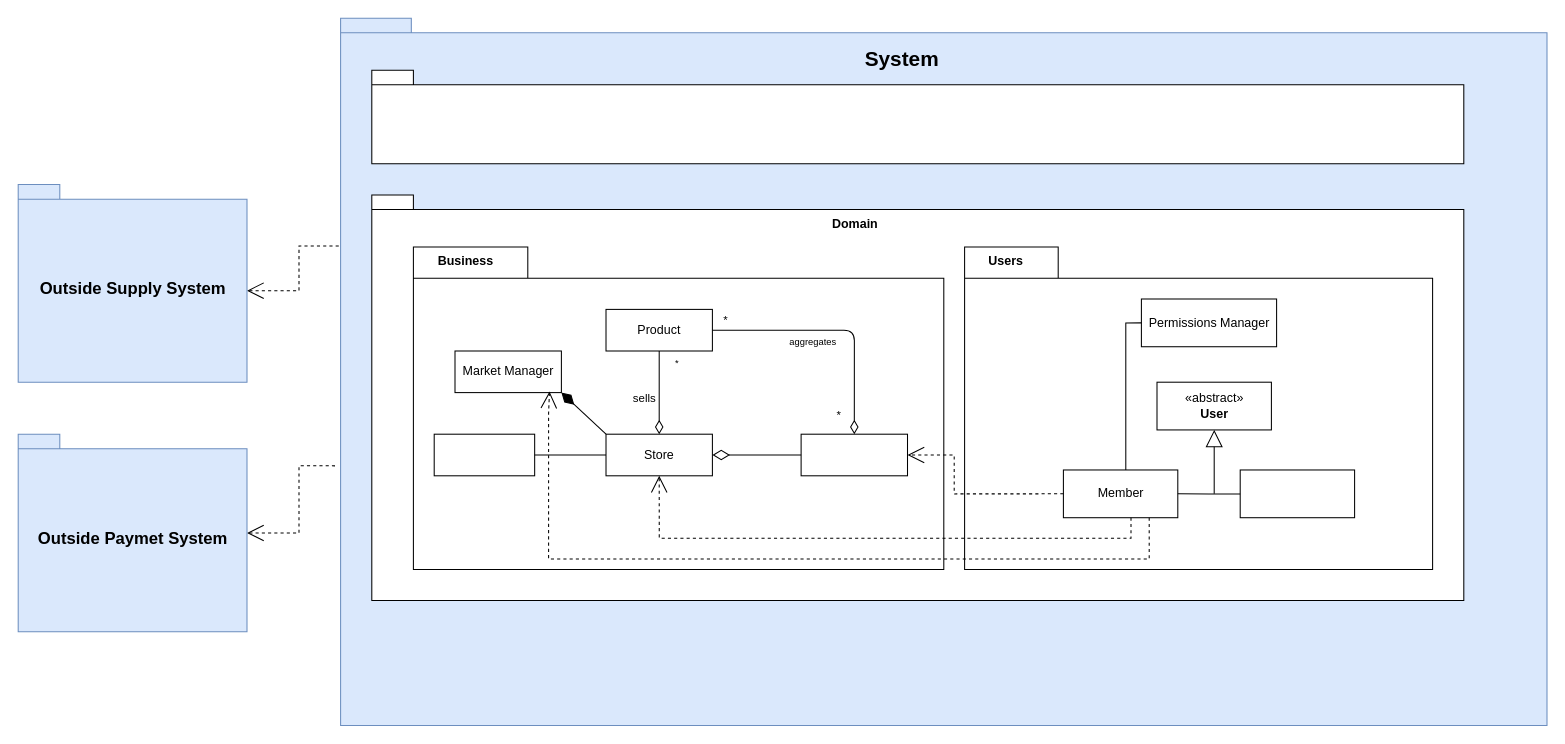
Some shapes in this 1565 by 744 pixel diagram are drawn without their labels. Each missing label, with the centre of its shape:
"Guest" goes at point 1297,493.
"Policies" goes at point 484,454.
"Service" goes at point 917,116.
"ShoppingCart" goes at point 854,454.
